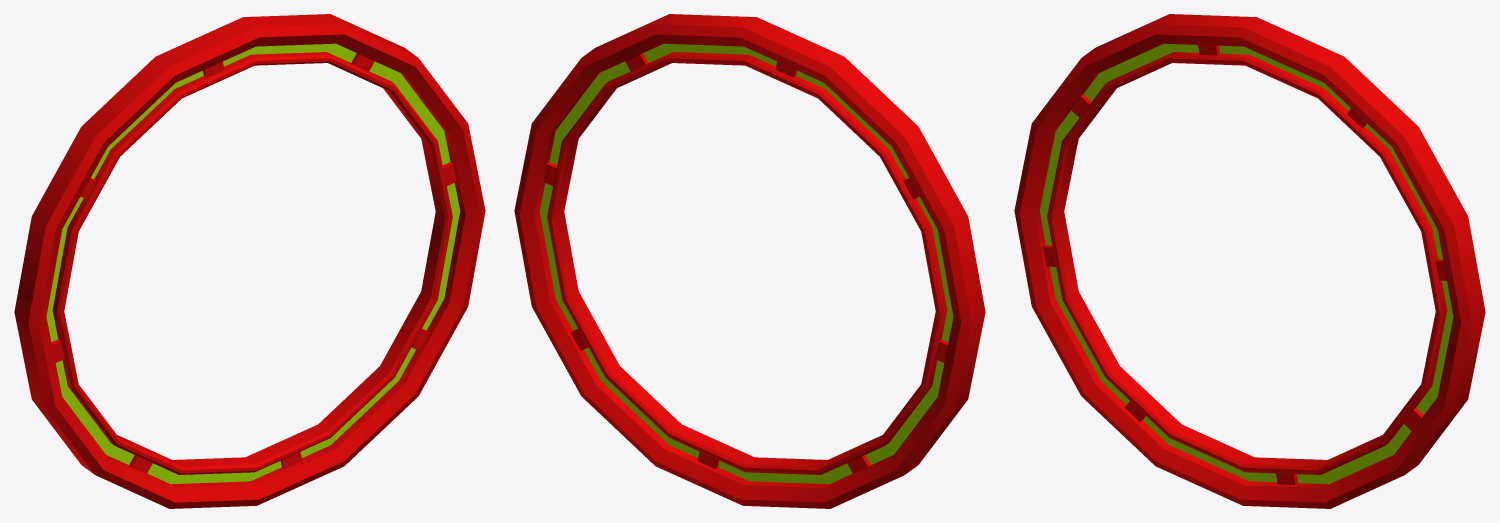
File: Checkpoint_Active.fbx
3 views of the same model, side by side, from view 1: azimuth 30°, elevation 25°; view 2: azimuth 150°, elevation 25°; view 3: azimuth 330°, elevation 25° (orthographic).
Parts seen in each view (by area): view 1: Checkpoint_Active; view 2: Checkpoint_Active; view 3: Checkpoint_Active.
Part boxes in pixels (x1,y1,x2,y2): Checkpoint_Active: [14, 14, 485, 508]; Checkpoint_Active: [514, 14, 985, 508]; Checkpoint_Active: [1014, 14, 1485, 508].
Bounding box in the file's own units: 12 × 12 × 0.8706.
